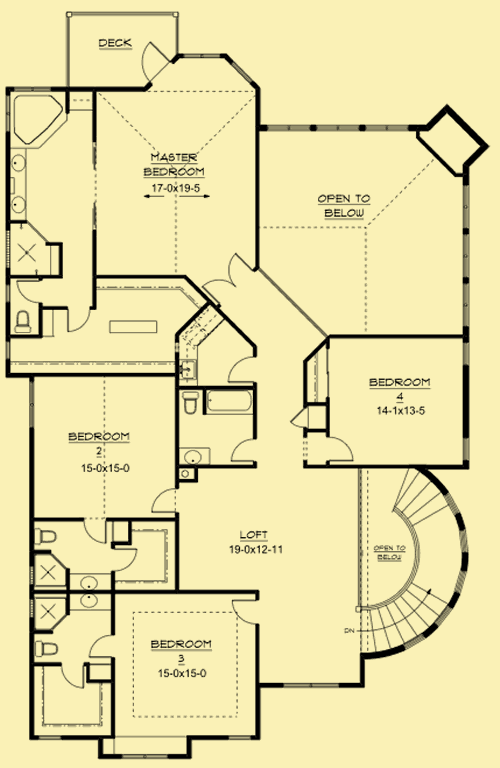door: (200, 250, 253, 305), (139, 41, 174, 81), (226, 354, 258, 386), (324, 431, 354, 463), (288, 402, 314, 434), (16, 277, 42, 304), (65, 307, 91, 334), (82, 517, 108, 544), (111, 544, 137, 571), (89, 634, 115, 661), (61, 661, 87, 688), (229, 437, 255, 464), (232, 598, 258, 625), (150, 488, 176, 515)
large_sink: (31, 523, 56, 549), (12, 308, 36, 333), (34, 637, 59, 661)
small_sink: (7, 147, 27, 220), (70, 572, 118, 593), (71, 593, 115, 613)
stairs: (357, 468, 467, 661)
tub: (10, 95, 64, 145)
window: (462, 184, 474, 326), (281, 677, 348, 691)
